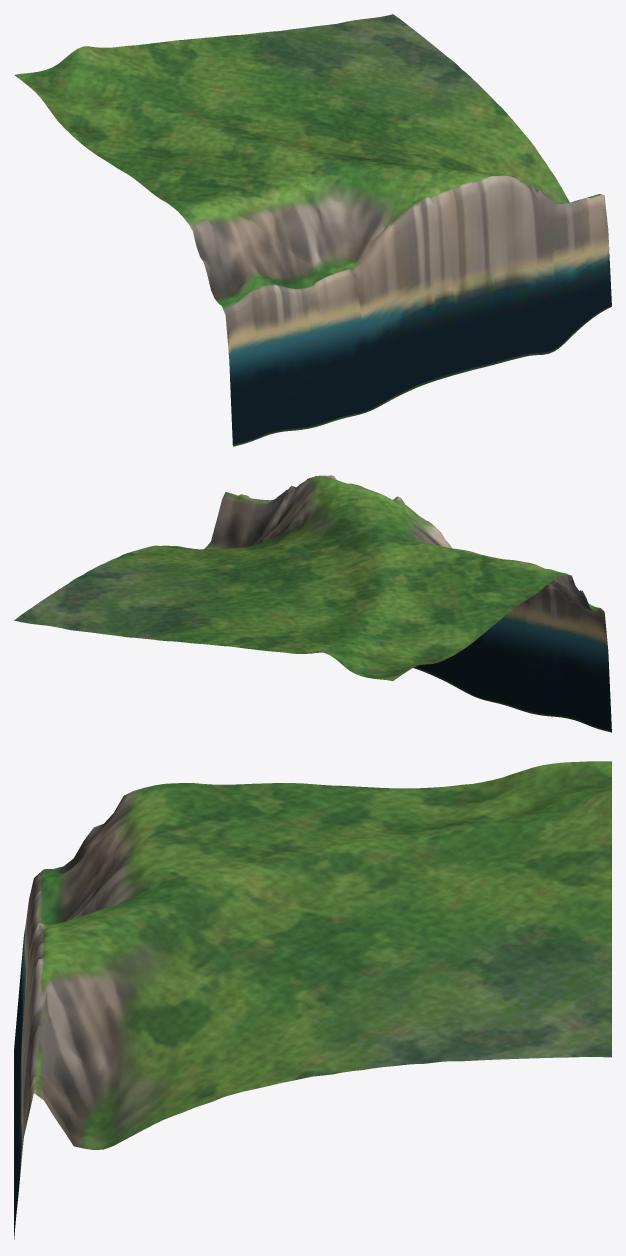
The picture shows the model from 3 angles, top to bottom: view 1: azimuth 30°, elevation 25°; view 2: azimuth 150°, elevation 25°; view 3: azimuth 270°, elevation 25°; orthographic projection. The views are drawn at different scales.
Visible parts, largest first — view 1: t064_000; view 2: t064_000; view 3: t064_000.
Part boxes in pixels (x1,y1,x2,y2): t064_000: [14, 14, 611, 446]; t064_000: [14, 475, 611, 732]; t064_000: [14, 761, 611, 1239].
Bounding box in the file's own units: 64 × 36.09 × 64.
1 material, 1 textured.
